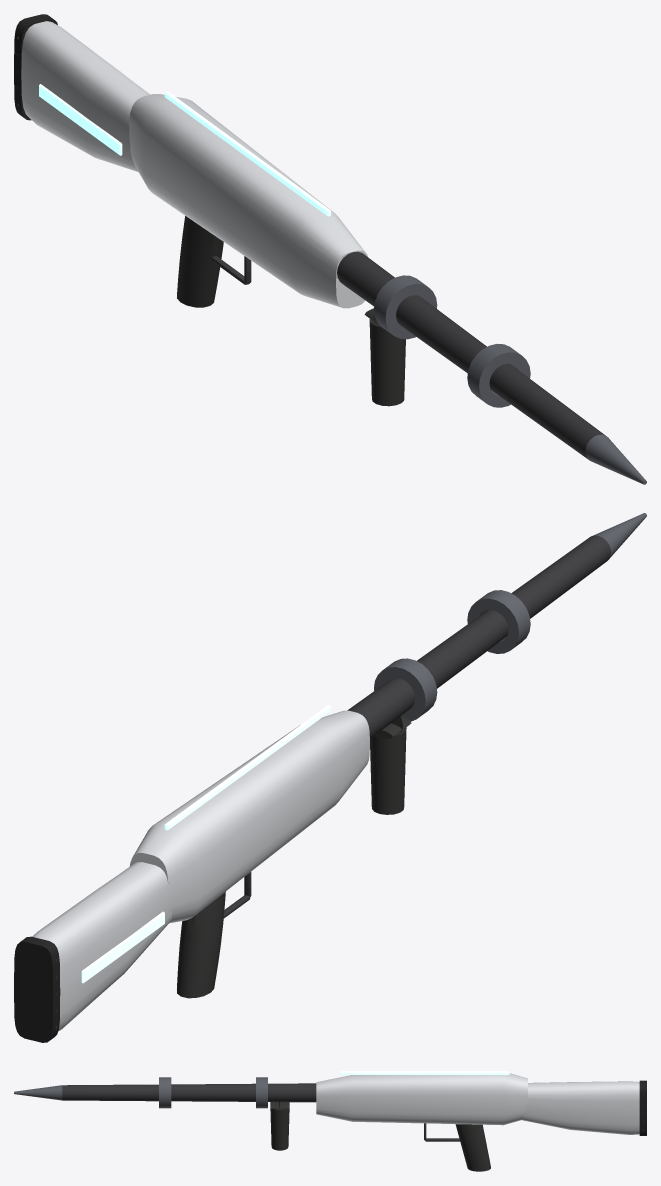
Rendered from powerlance.glb.
The picture shows the model from 3 angles, top to bottom: view 1: azimuth 30°, elevation 25°; view 2: azimuth 150°, elevation 25°; view 3: azimuth 270°, elevation 25°; orthographic projection. The views are drawn at different scales.
Parts seen in each view (by area): view 1: Body; view 2: Body; view 3: Body.
Part boxes in pixels (x1,y1,x2,y2): Body: [14, 14, 646, 484]; Body: [14, 513, 646, 1042]; Body: [14, 1071, 646, 1171].
Size of the model in its own units: 0.056 by 0.1759 by 1.05.
